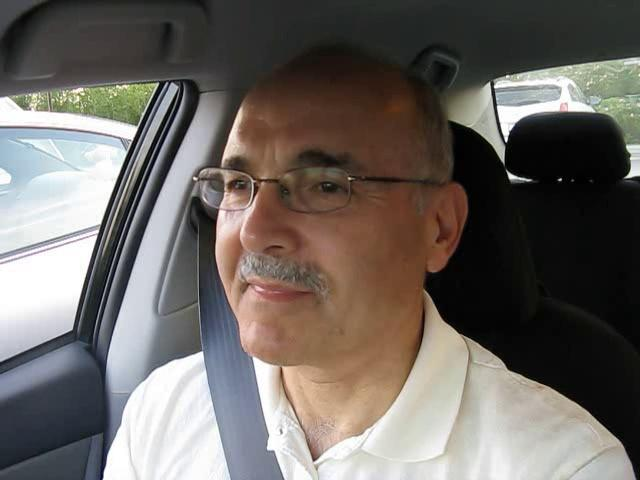no_yawn: (222, 260, 331, 318)
open_eyeL: (212, 164, 270, 208)
open_eyeR: (286, 162, 369, 216)
